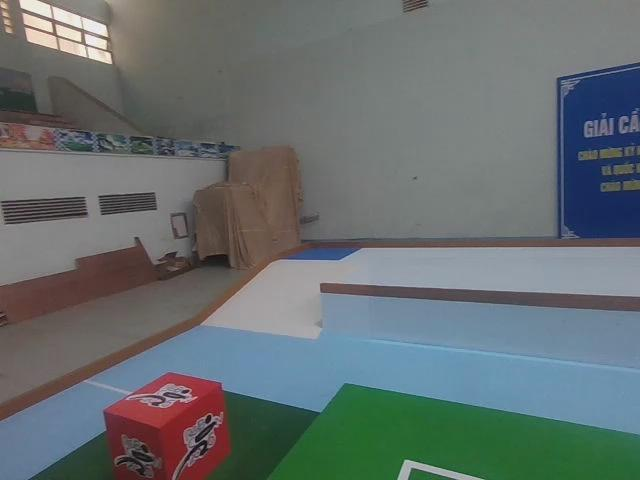R1: (99, 368, 234, 480)
